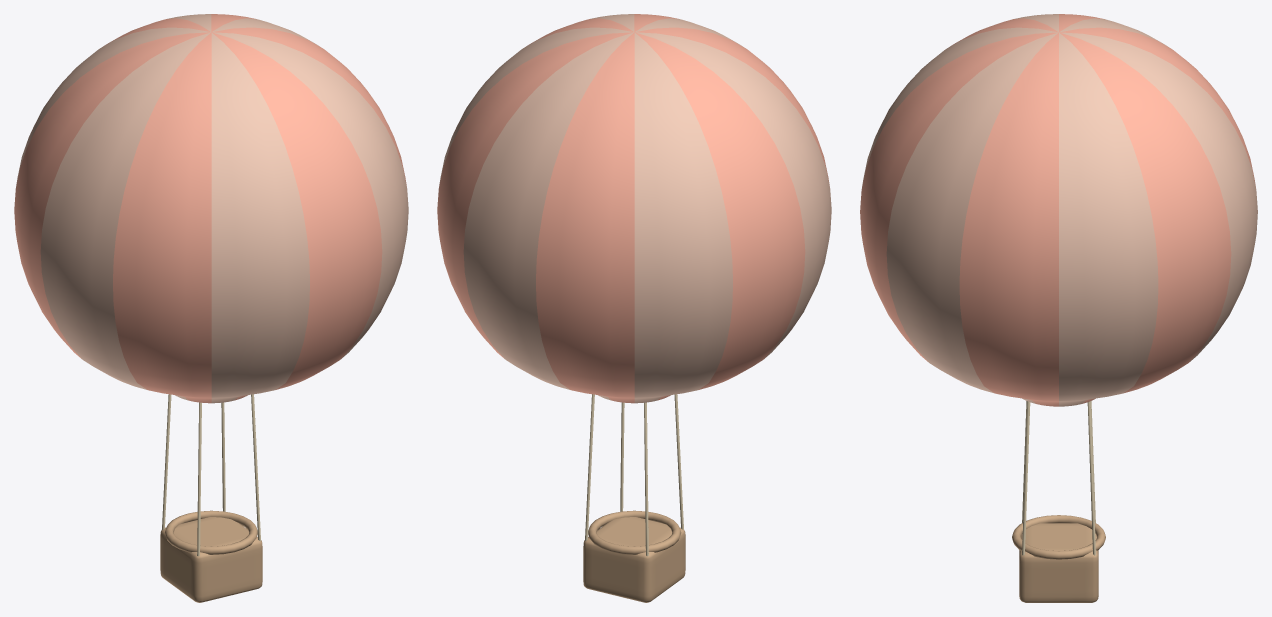
Rendered from ParasolPlummetBalloon.glb.
3 views of the same model, side by side, from view 1: azimuth 30°, elevation 25°; view 2: azimuth 150°, elevation 25°; view 3: azimuth 270°, elevation 25° (orthographic).
Parts seen in each view (by area): view 1: Envelope, Stripe, Basket, Rope; view 2: Envelope, Stripe, Basket, Rope; view 3: Envelope, Stripe, Basket, Rope.
Part boxes in pixels (box(x1,y1,x2,y2)): Envelope: box(14, 14, 406, 403); Stripe: box(16, 14, 408, 403); Basket: box(160, 510, 262, 602); Rope: box(162, 394, 260, 556); Envelope: box(437, 14, 829, 403); Stripe: box(439, 14, 831, 403); Basket: box(583, 510, 685, 602); Rope: box(585, 394, 683, 556); Envelope: box(860, 14, 1255, 406); Stripe: box(862, 14, 1257, 406); Basket: box(1012, 515, 1105, 602); Rope: box(1022, 401, 1095, 555).
Size of the model in its own units: 14 by 21.6 by 14.
